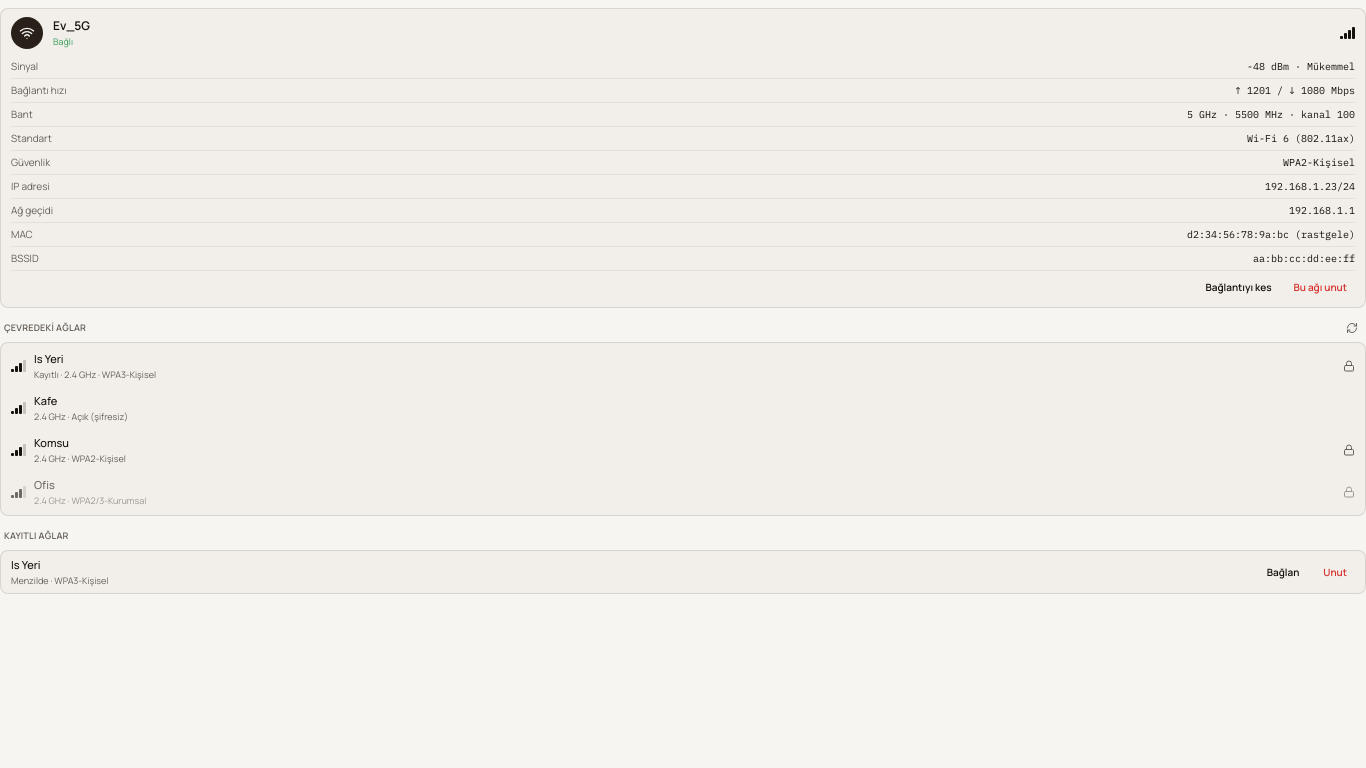
Test: WifiDetail › a rejected password keeps the form open with the reason
Click the button with aria-label "Komsu ağına bağlan" at (51,442), box x1=5 y1=429 x2=1361 y2=471
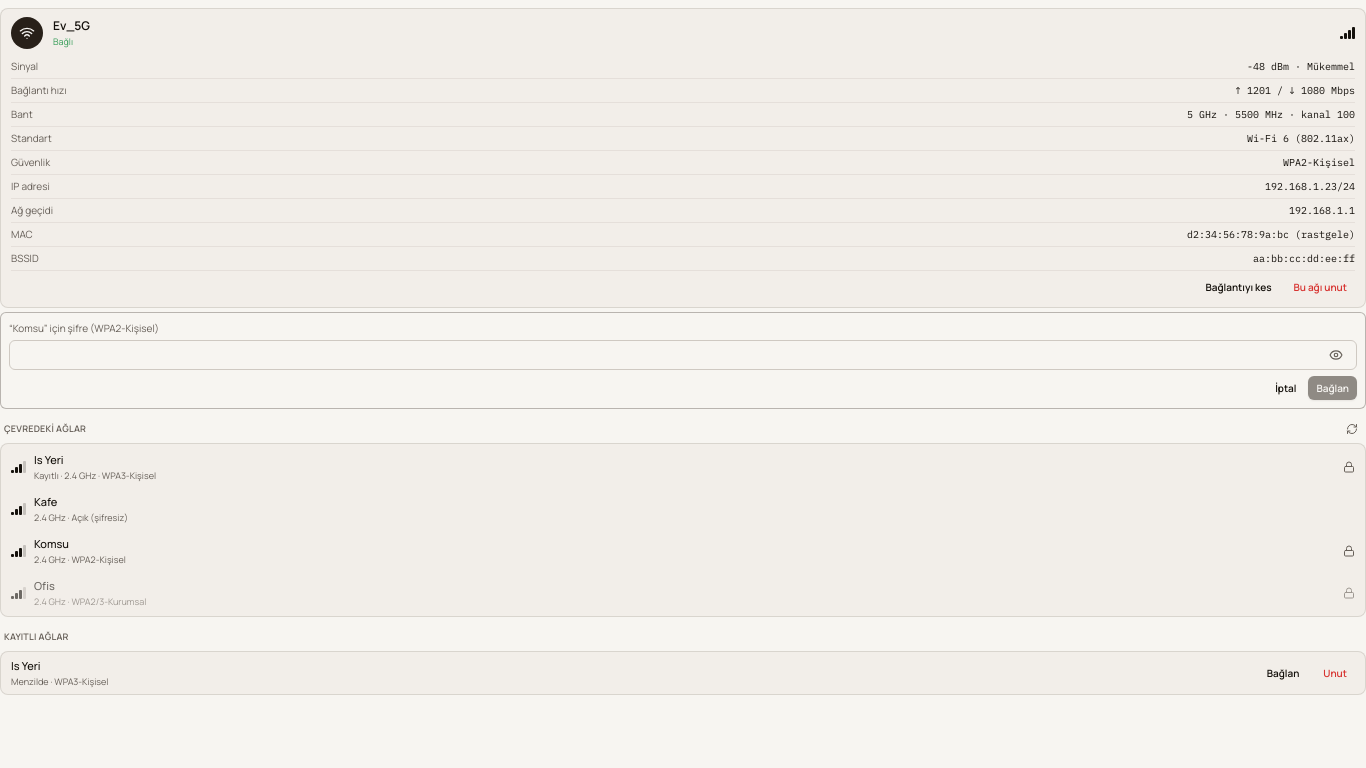
Type "12345678" into the password field labelled "“Komsu” için şifre (WPA2-Kişisel)" at (669,355), box x1=18 y1=341 x2=1320 y2=369
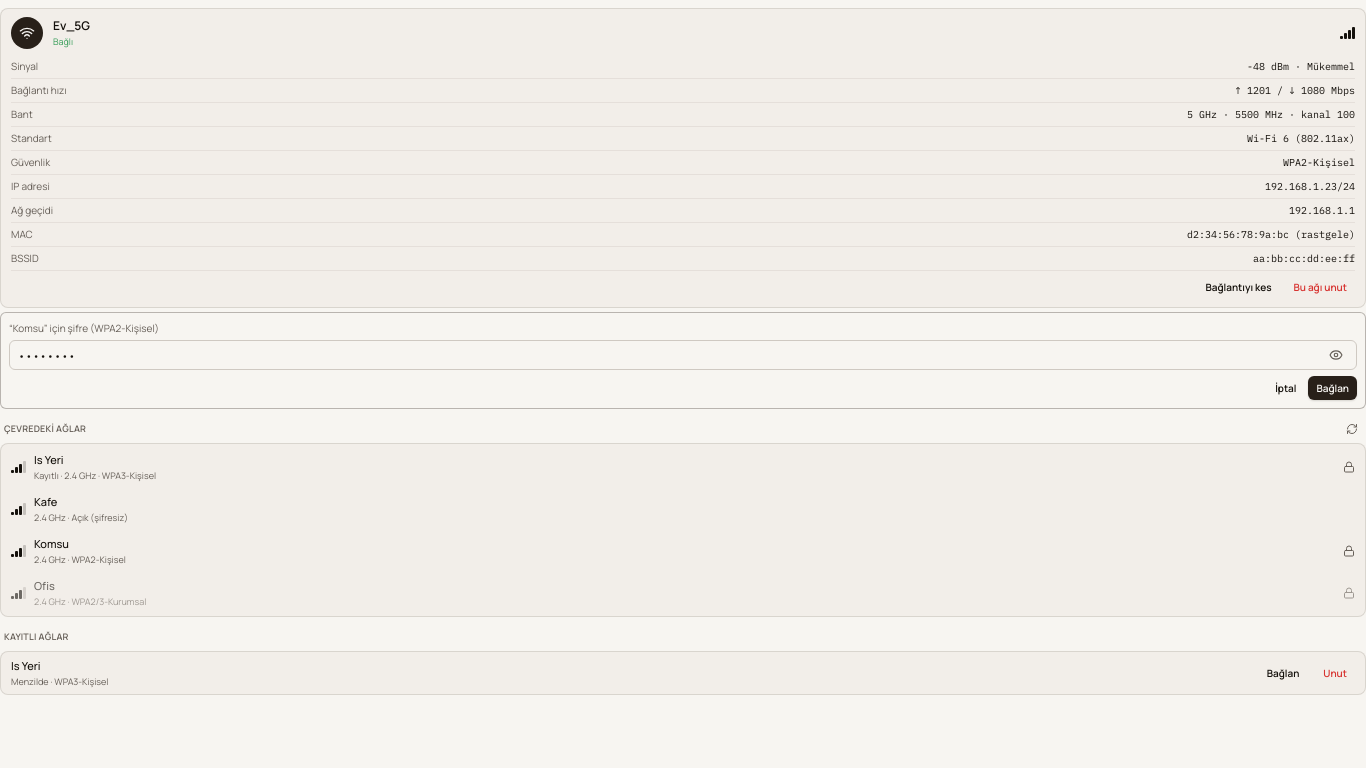
Click the 1st button "Bağlan" at (1333,388), box x1=1308 y1=376 x2=1357 y2=400
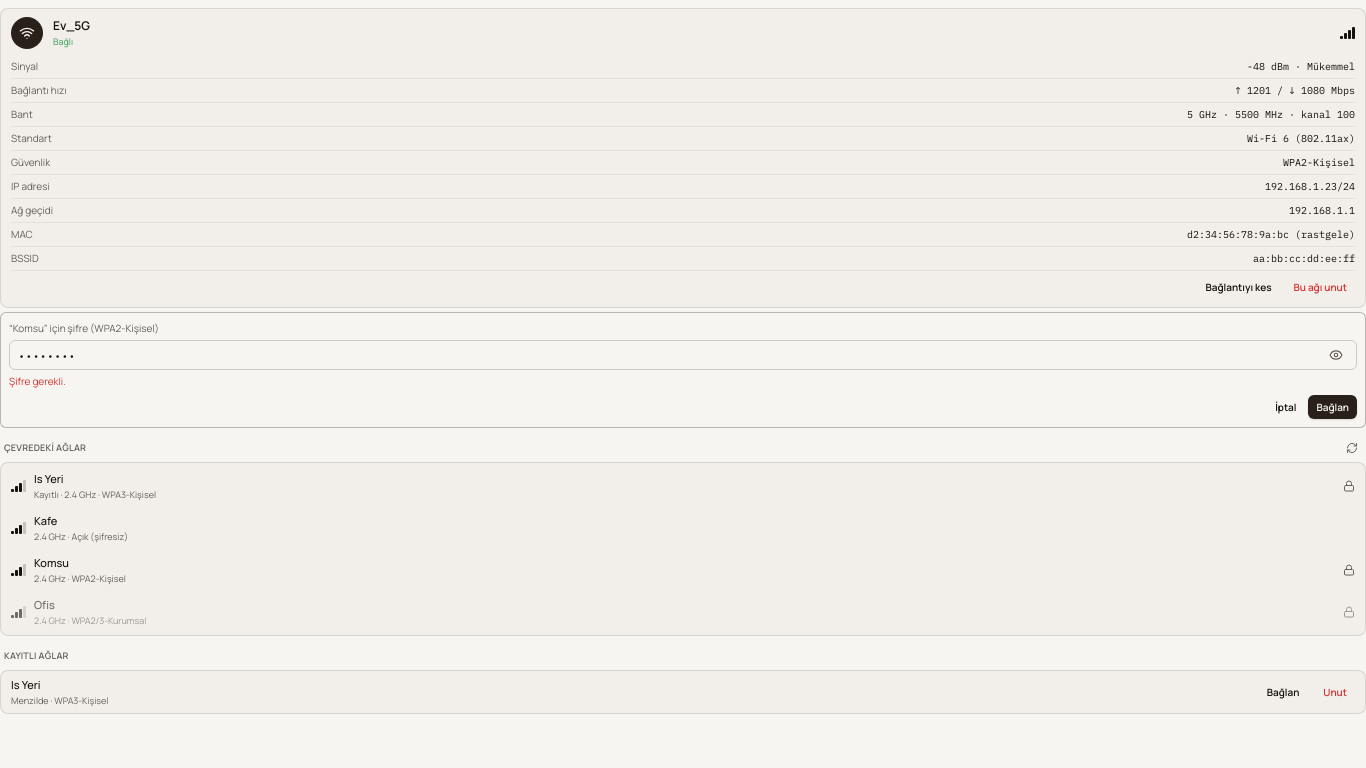
Check: the message reads "Şifre gerekli.", box x1=9 y1=374 x2=66 y2=388
